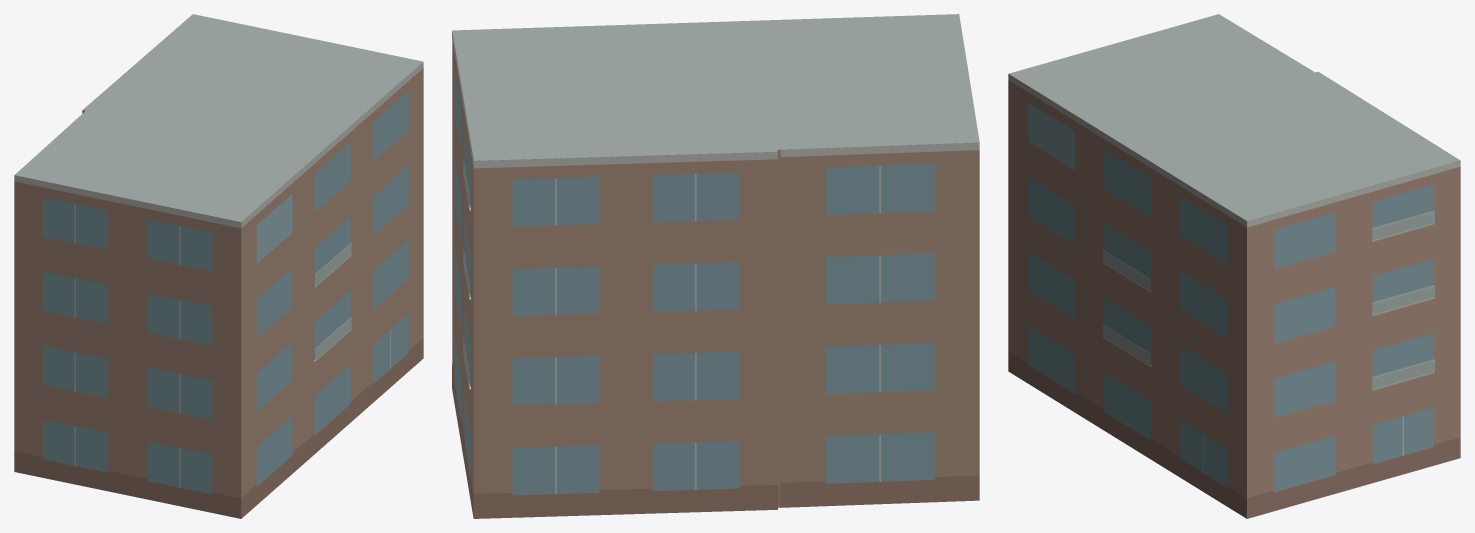
The model's file is survey-upis-32883353.glb.
3 renders of one model, left to right at view 1: azimuth 30°, elevation 25°; view 2: azimuth 150°, elevation 25°; view 3: azimuth 270°, elevation 25°, orthographic. The views are drawn at different scales.
Parts seen in each view (by area): view 1: survey-upis-32883353.tmp; view 2: survey-upis-32883353.tmp; view 3: survey-upis-32883353.tmp.
Part boxes in pixels (<box>): survey-upis-32883353.tmp: <box>14,14,423,518</box>; survey-upis-32883353.tmp: <box>452,14,979,518</box>; survey-upis-32883353.tmp: <box>1008,14,1460,518</box>.
Size of the model in its own units: 17.33 by 11.6 by 15.98.
